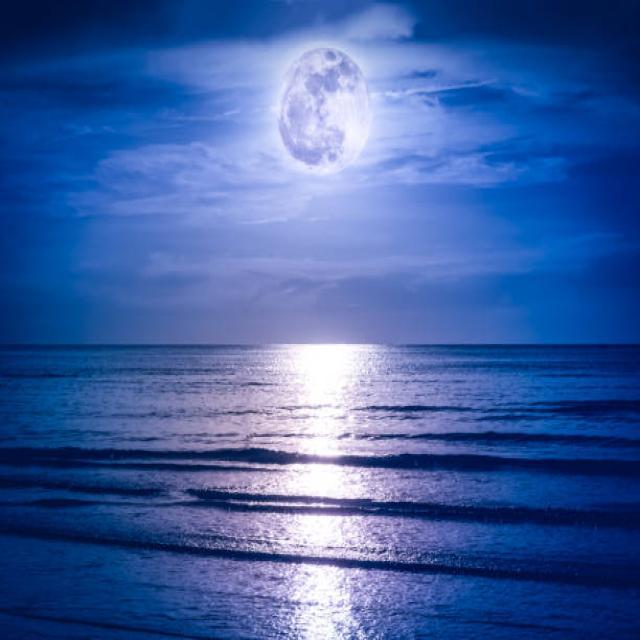moon: (263, 35, 374, 175)
